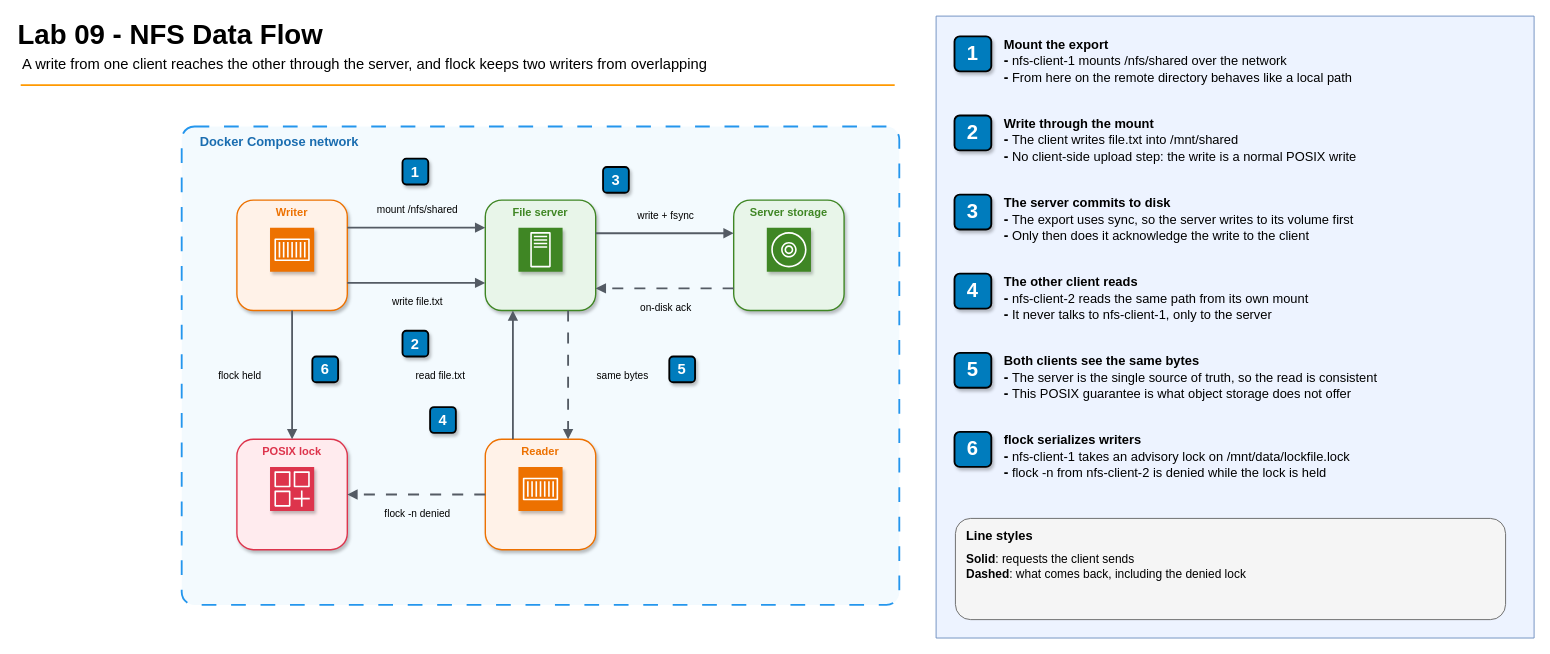
The diagram is 1550 pixels wide and 654 high, and some of its shapes have lost their labels. The centre of each missing label's shape, as x and y in pixels:
/nfs/shared Docker volume: [789,250]
lockfile.lock flock on /mnt/data: [292,490]
nfs-client-1 writes and locks: [292,250]
nfs-client-2 reads the same path: [541,490]
nfs-server nfsd, sync export: [541,250]
